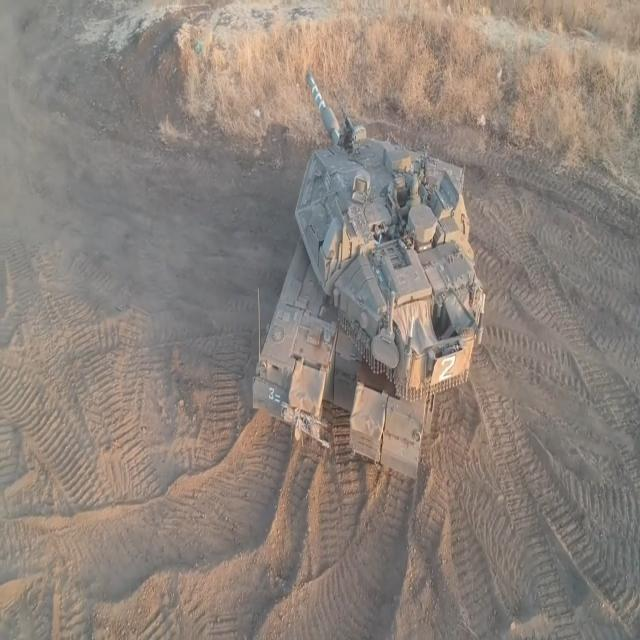tank: (244, 47, 505, 501)
